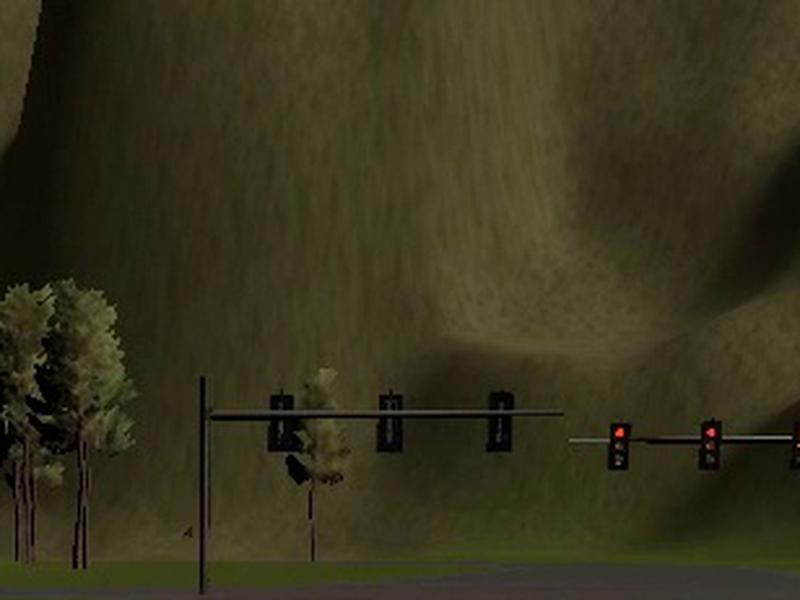Red: (608, 424, 631, 470), (699, 422, 721, 468)
